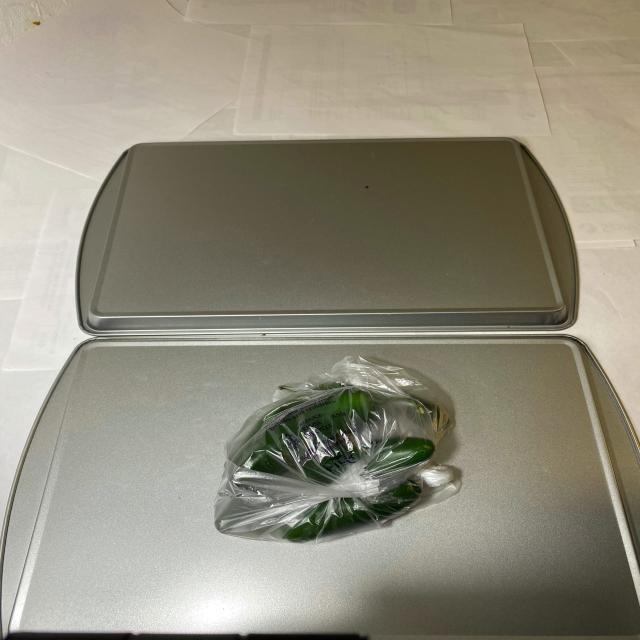chilli: (233, 378, 447, 543)
